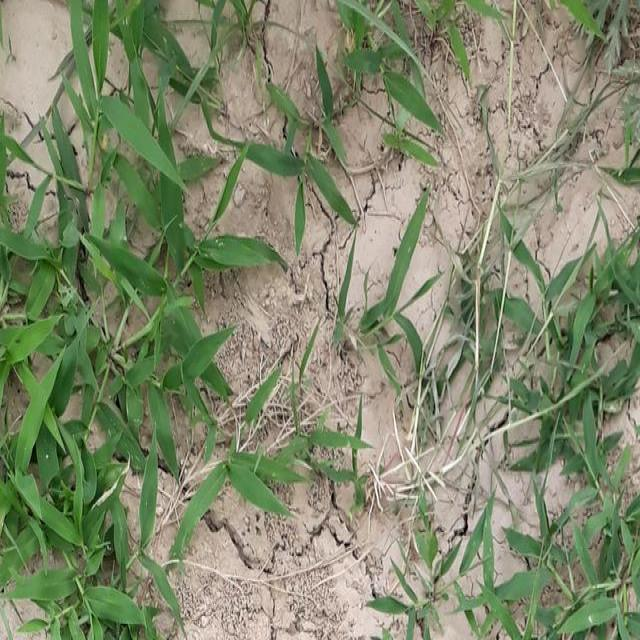weed: (0, 124, 168, 634), (80, 10, 274, 286), (527, 249, 640, 626), (237, 90, 351, 216), (342, 12, 438, 134), (186, 442, 298, 546), (379, 192, 418, 381), (180, 320, 222, 448)
